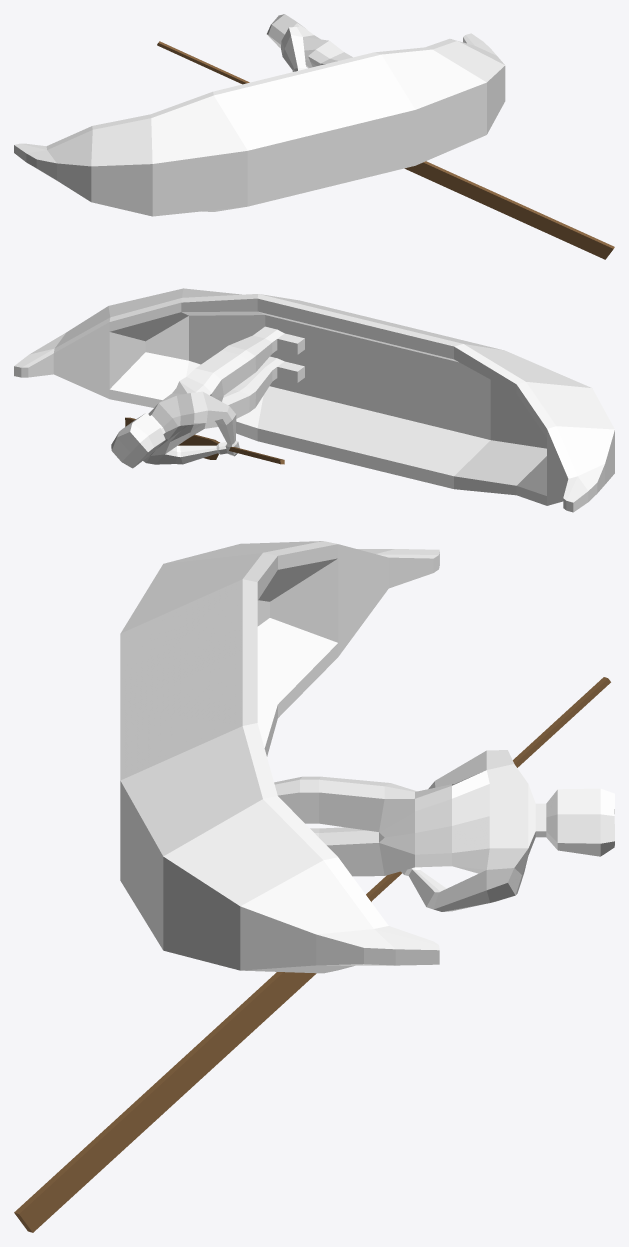
File: venice_statue_2.fbx
3 renders of one model, top to bottom at view 1: azimuth 30°, elevation 25°; view 2: azimuth 150°, elevation 25°; view 3: azimuth 270°, elevation 25°, orthographic. The views are drawn at different scales.
Visible parts, largest first — view 1: Cube.272; view 2: Cube.272; view 3: Cube.272.
Boxes of the visible parts, <box> form: Cube.272: <box>14,14,614,259</box>; Cube.272: <box>14,288,614,512</box>; Cube.272: <box>14,541,614,1232</box>.
Bounding box in the file's own units: 1518 × 604 × 910.
